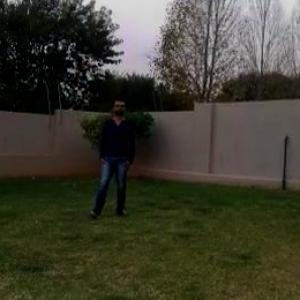follow: (100, 94, 130, 214)
